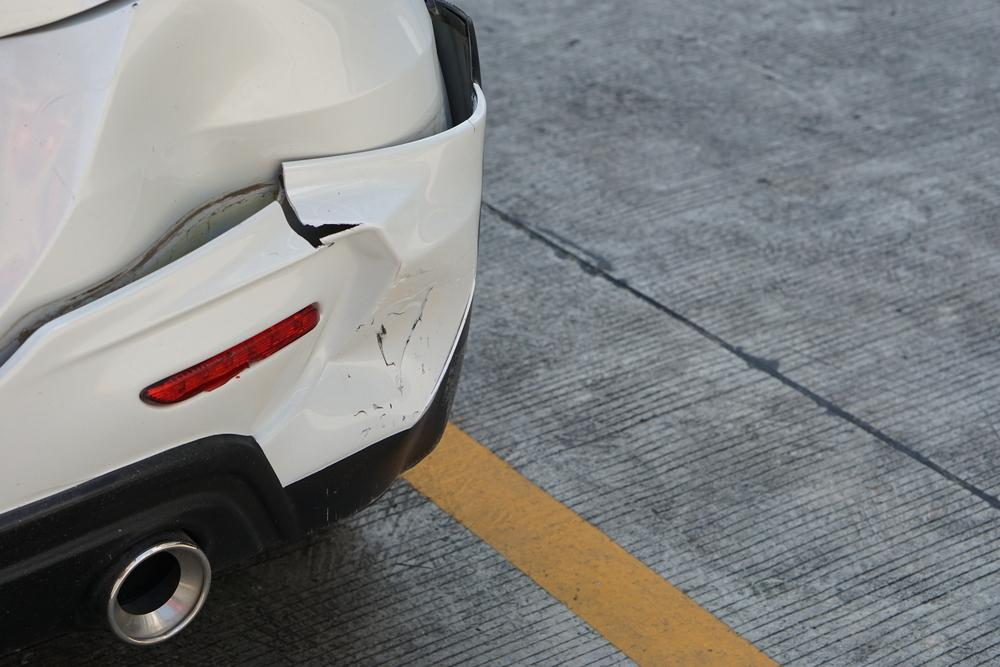crack: (277, 190, 364, 252)
dent: (66, 0, 294, 279), (311, 265, 470, 431)
